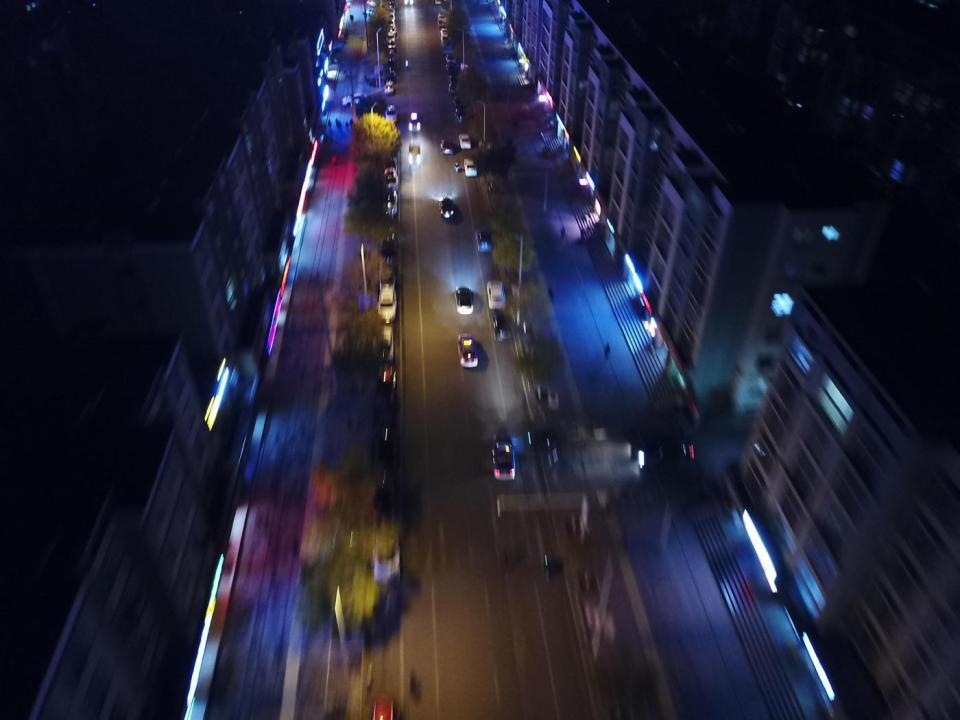car: (527, 429, 561, 481), (370, 417, 401, 470), (372, 530, 401, 585), (370, 479, 400, 527), (371, 364, 398, 409), (493, 435, 516, 480), (655, 440, 694, 462), (371, 325, 394, 361), (376, 283, 396, 320), (458, 332, 478, 367), (492, 312, 511, 344), (354, 98, 386, 117), (487, 280, 506, 309), (455, 286, 473, 315), (378, 231, 395, 260), (476, 226, 494, 252), (381, 190, 397, 217), (382, 167, 399, 190), (342, 92, 368, 107), (380, 262, 396, 286), (439, 197, 456, 219), (382, 154, 398, 170), (408, 145, 421, 164), (409, 112, 421, 132), (464, 158, 477, 176), (386, 104, 396, 124), (440, 140, 453, 154), (478, 138, 493, 149), (460, 133, 470, 149), (489, 181, 502, 193), (456, 110, 468, 122), (385, 70, 396, 82), (449, 82, 459, 94), (446, 62, 456, 74), (445, 52, 455, 64), (384, 82, 394, 94), (385, 57, 395, 68), (441, 44, 452, 54), (454, 97, 463, 108), (442, 34, 450, 45), (438, 14, 449, 22), (449, 74, 458, 83), (388, 39, 396, 49), (366, 9, 377, 16), (440, 27, 449, 35), (387, 49, 397, 56), (367, 0, 378, 6), (388, 26, 396, 34), (386, 12, 394, 20), (387, 31, 394, 40), (386, 8, 394, 15), (388, 1, 394, 9), (388, 19, 394, 26), (404, 0, 412, 5), (436, 1, 444, 4), (497, 91, 499, 99)
